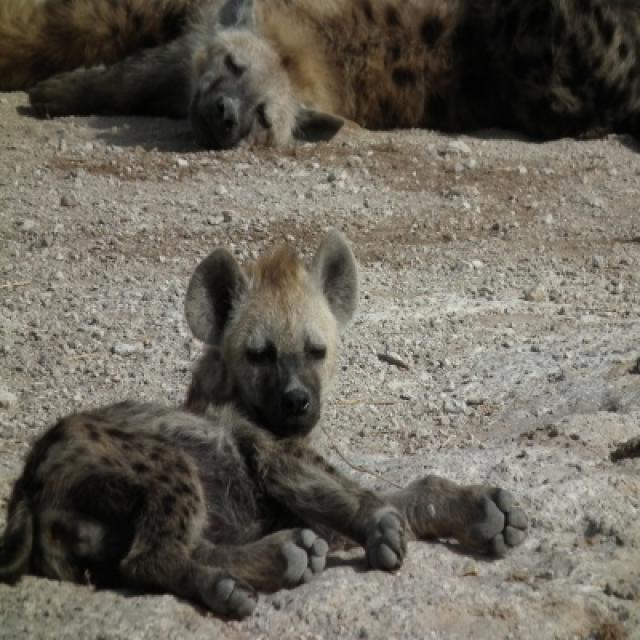hyena: (0, 230, 525, 618)
